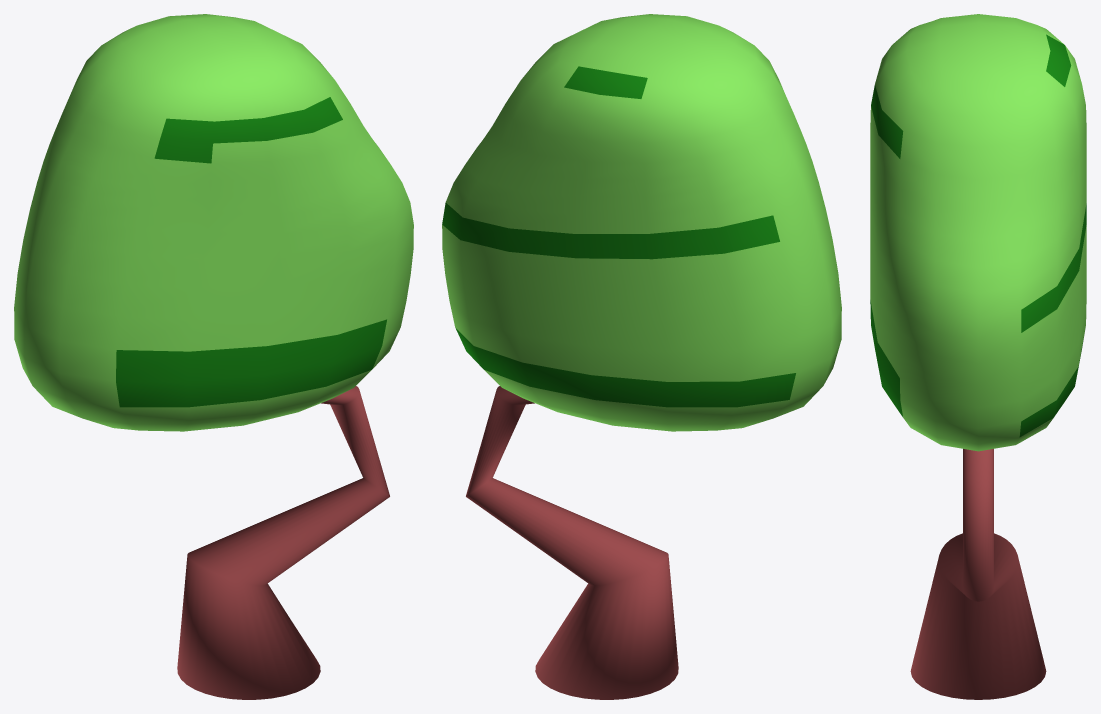
The model's file is gplant.fbx.
3 renders of one model, left to right at view 1: azimuth 30°, elevation 25°; view 2: azimuth 150°, elevation 25°; view 3: azimuth 270°, elevation 25°, orthographic. The views are drawn at different scales.
Parts seen in each view (by area): view 1: Cube, Circle; view 2: Cube, Circle; view 3: Cube, Circle.
Boxes of the visible parts, x1,y1,x2,y2 form: Cube: [14, 14, 413, 431]; Circle: [177, 386, 389, 699]; Cube: [442, 14, 841, 431]; Circle: [466, 386, 678, 699]; Cube: [870, 14, 1086, 451]; Circle: [910, 449, 1046, 699].
Bounding box in the file's own units: 132 × 215 × 68.93.
